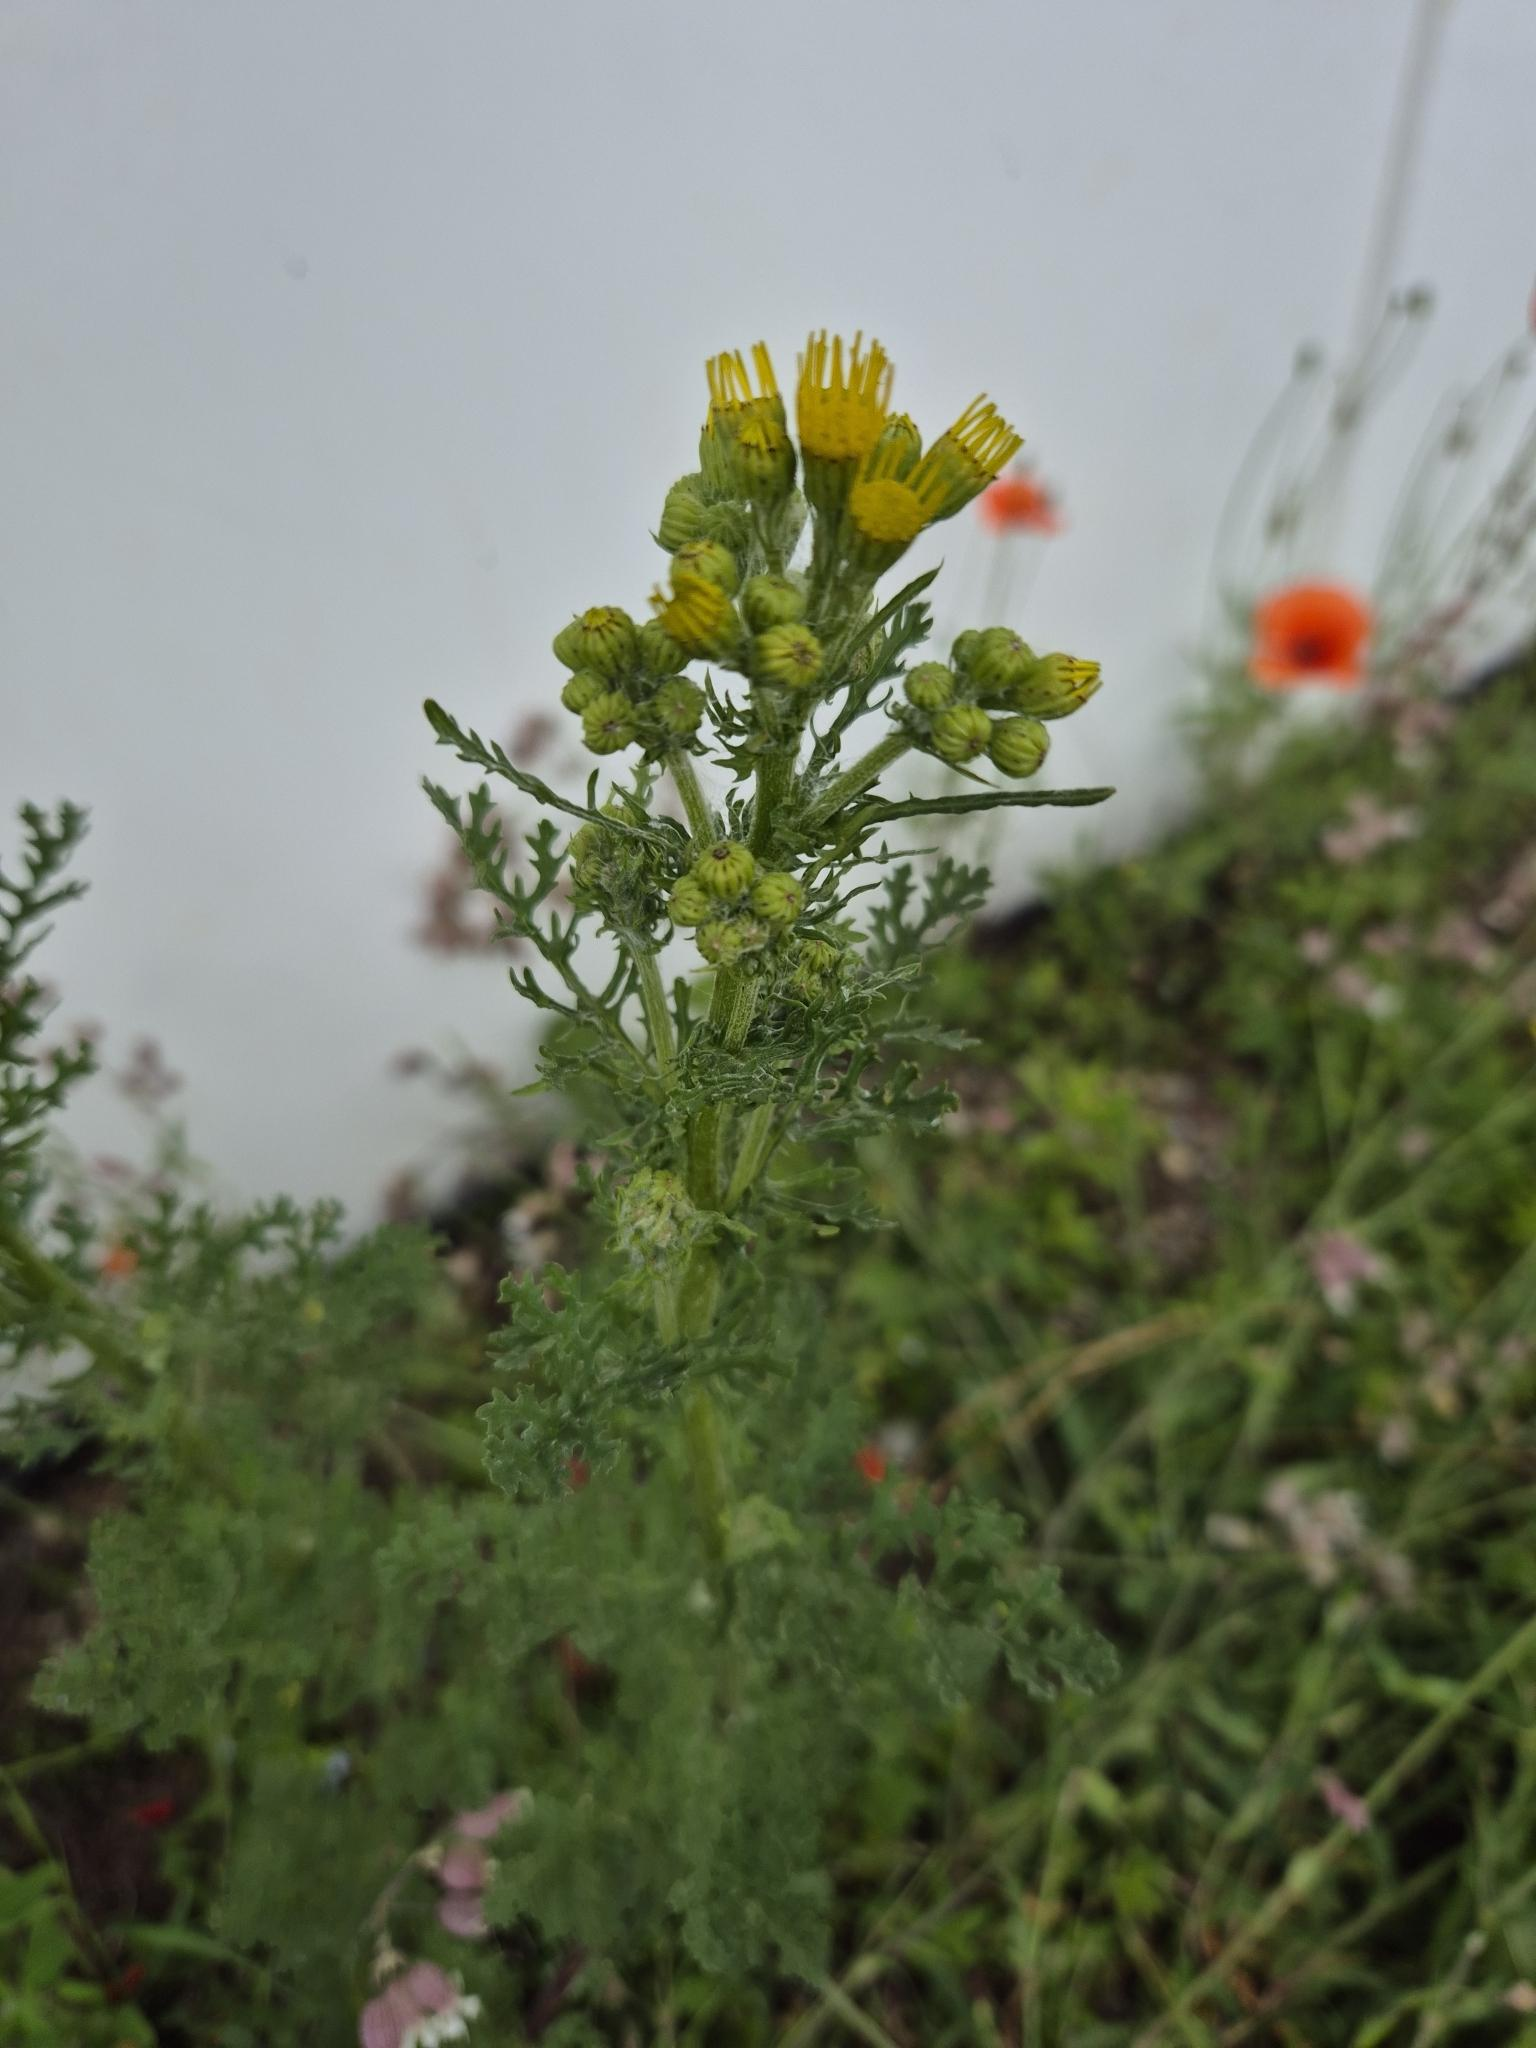Jacobaea vulgaris: (347, 324, 1100, 2048)
